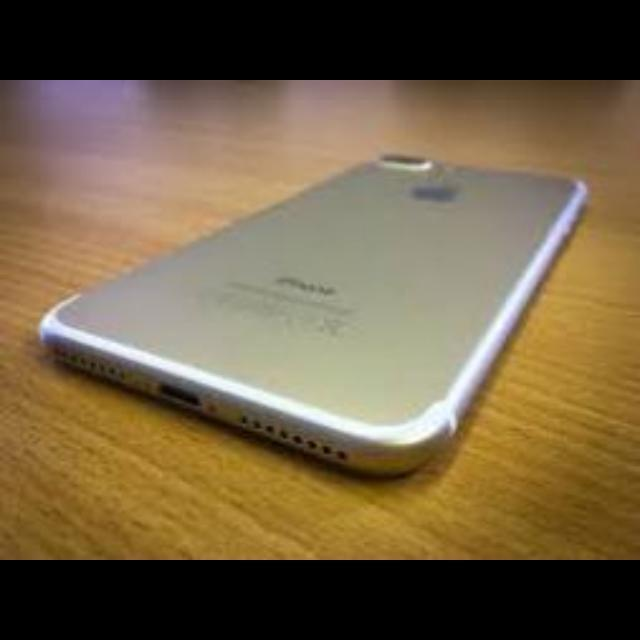PhoneUse: (47, 140, 595, 520)
